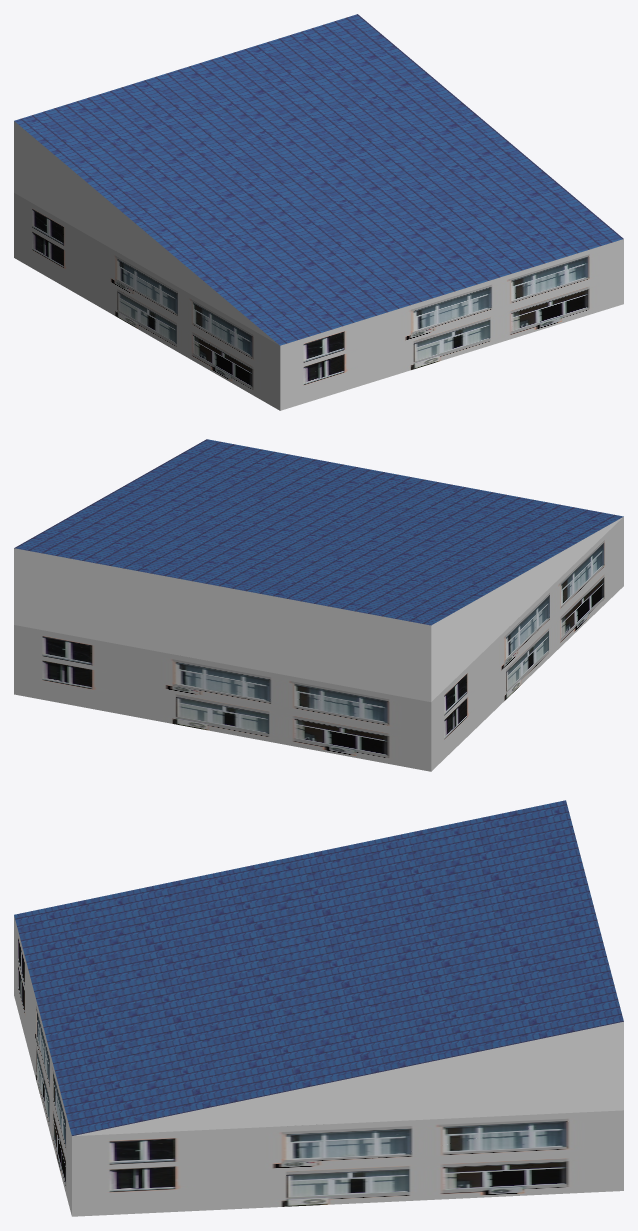
3 views of the same model, one above another, from view 1: azimuth 30°, elevation 25°; view 2: azimuth 150°, elevation 25°; view 3: azimuth 270°, elevation 25° (orthographic). The views are drawn at different scales.
Parts seen in each view (by area): view 1: CityEngineMaterial_10_m, CityEngineMaterial_9_m, CityEngineMaterial_3_m; view 2: CityEngineMaterial_10_m, CityEngineMaterial_9_m, CityEngineMaterial_3_m; view 3: CityEngineMaterial_10_m, CityEngineMaterial_9_m, CityEngineMaterial_3_m.
Boxes of the visible parts, x1=… form: CityEngineMaterial_10_m: x1=14, y1=14, x2=623, y2=345; CityEngineMaterial_9_m: x1=14, y1=193, x2=623, y2=410; CityEngineMaterial_3_m: x1=14, y1=121, x2=279, y2=345; CityEngineMaterial_10_m: x1=14, y1=439, x2=623, y2=625; CityEngineMaterial_9_m: x1=14, y1=517, x2=623, y2=771; CityEngineMaterial_3_m: x1=14, y1=517, x2=622, y2=701; CityEngineMaterial_10_m: x1=14, y1=800, x2=623, y2=1135; CityEngineMaterial_9_m: x1=14, y1=915, x2=623, y2=1216; CityEngineMaterial_3_m: x1=72, y1=1021, x2=623, y2=1136.
Size of the model in its own units: 34.03 by 10.87 by 35.48.
